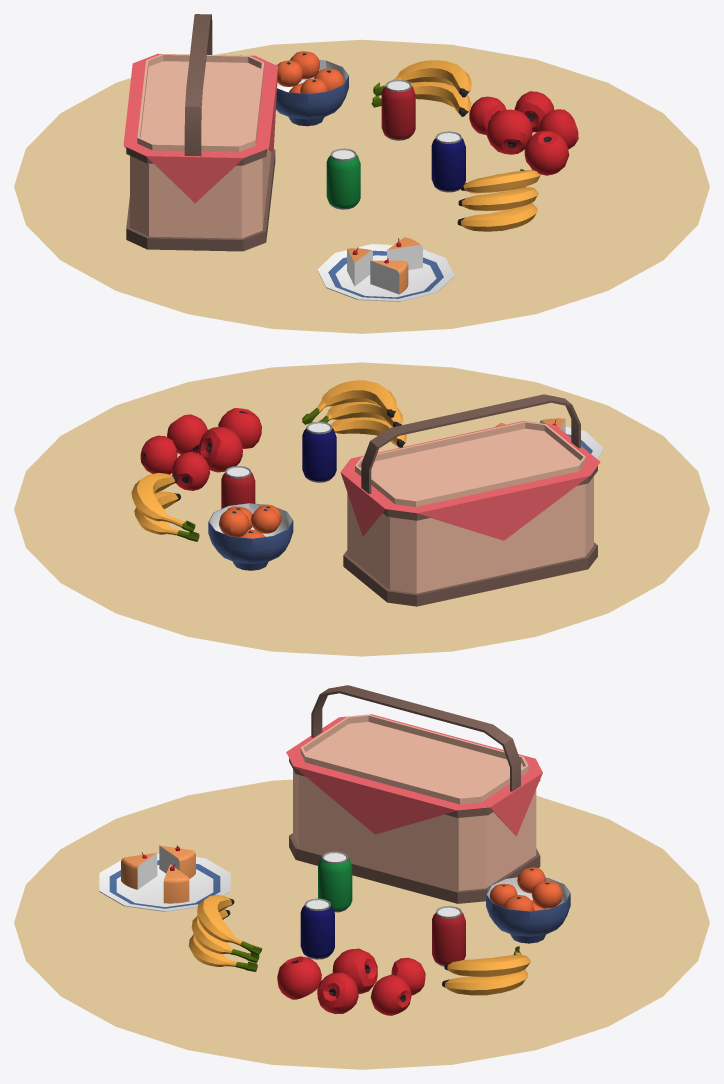
The model's file is picnic.fbx.
3 views of the same model, one above another, from view 1: azimuth 30°, elevation 25°; view 2: azimuth 150°, elevation 25°; view 3: azimuth 270°, elevation 25° (orthographic).
Visible parts, largest first — view 1: picnic; view 2: picnic; view 3: picnic.
Part boxes in pixels (x1,y1,x2,y2): picnic: (14, 14, 709, 333); picnic: (14, 362, 709, 656); picnic: (14, 685, 709, 1069).
Size of the model in its own units: 17.03 by 4.01 by 17.03.
